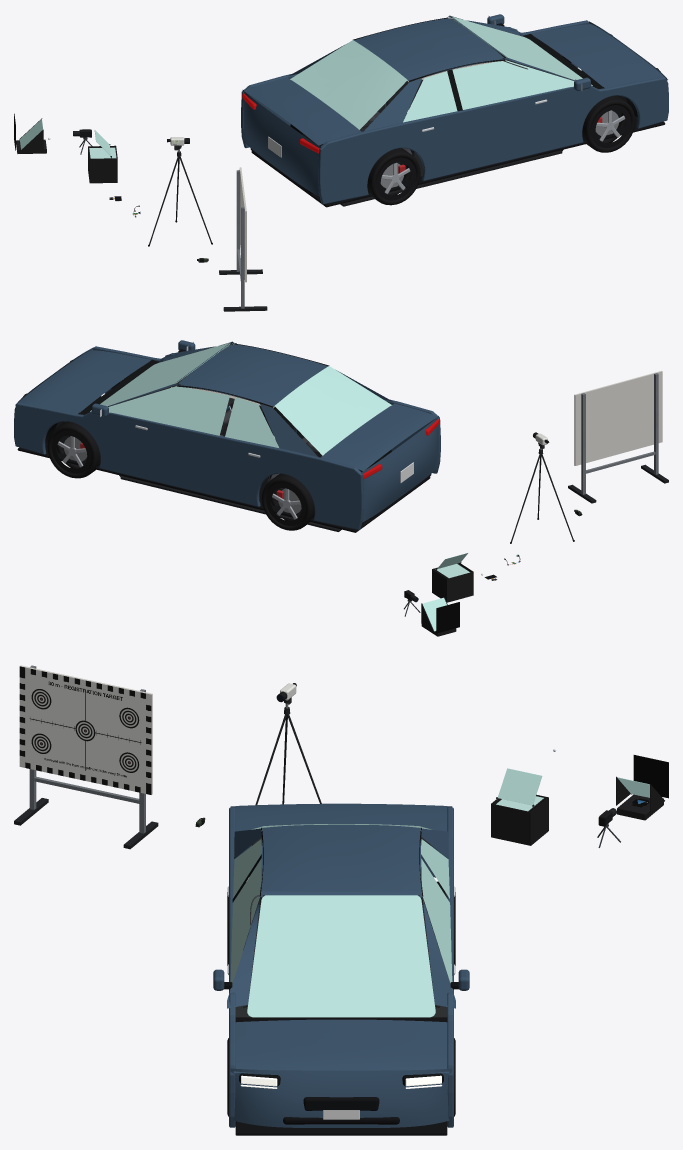
File: arhud.glb
3 views of the same model, one above another, from view 1: azimuth 30°, elevation 25°; view 2: azimuth 150°, elevation 25°; view 3: azimuth 270°, elevation 25° (orthographic). The views are drawn at different scales.
Visible parts, largest first — view 1: body, rightSide, windshield, leftSide, interior, legs, enclosure, tripod; view 2: body, leftSide, board.006, windshield, rightSide, legs, enclosure, interior, hood, tripod; view 3: body, windshield, board.006, rightSide, leftSide, enclosure, targets, legs, combiner, hood, tripod.
Part boxes in pixels (x1=…): body: x1=242, y1=15, x2=667, y2=207; rightSide: x1=318, y1=57, x2=668, y2=204; windshield: x1=452, y1=17, x2=592, y2=85; leftSide: x1=241, y1=14, x2=589, y2=147; interior: x1=340, y1=61, x2=563, y2=206; legs: x1=236, y1=170, x2=244, y2=308; enclosure: x1=88, y1=145, x2=117, y2=183; tripod: x1=148, y1=145, x2=212, y2=246; body: x1=15, y1=341, x2=439, y2=532; leftSide: x1=14, y1=383, x2=363, y2=529; board.006: x1=574, y1=371, x2=662, y2=465; windshield: x1=90, y1=343, x2=230, y2=411; rightSide: x1=93, y1=340, x2=440, y2=473; legs: x1=581, y1=373, x2=658, y2=494; enclosure: x1=432, y1=563, x2=473, y2=602; interior: x1=108, y1=387, x2=341, y2=531; hood: x1=436, y1=602, x2=459, y2=633; tripod: x1=510, y1=447, x2=574, y2=543; body: x1=227, y1=803, x2=455, y2=1135; windshield: x1=247, y1=895, x2=435, y2=1017; board.006: x1=19, y1=665, x2=152, y2=794; rightSide: x1=213, y1=807, x2=264, y2=1127; leftSide: x1=418, y1=807, x2=469, y2=1127; enclosure: x1=491, y1=794, x2=548, y2=845; targets: x1=31, y1=689, x2=139, y2=772; legs: x1=29, y1=665, x2=145, y2=833; combiner: x1=496, y1=768, x2=542, y2=808; hood: x1=633, y1=755, x2=668, y2=798; tripod: x1=255, y1=703, x2=321, y2=805.
Bounding box in the file's own units: 6.93 × 1.43 × 5.32.
309 materials, 121 textured.
